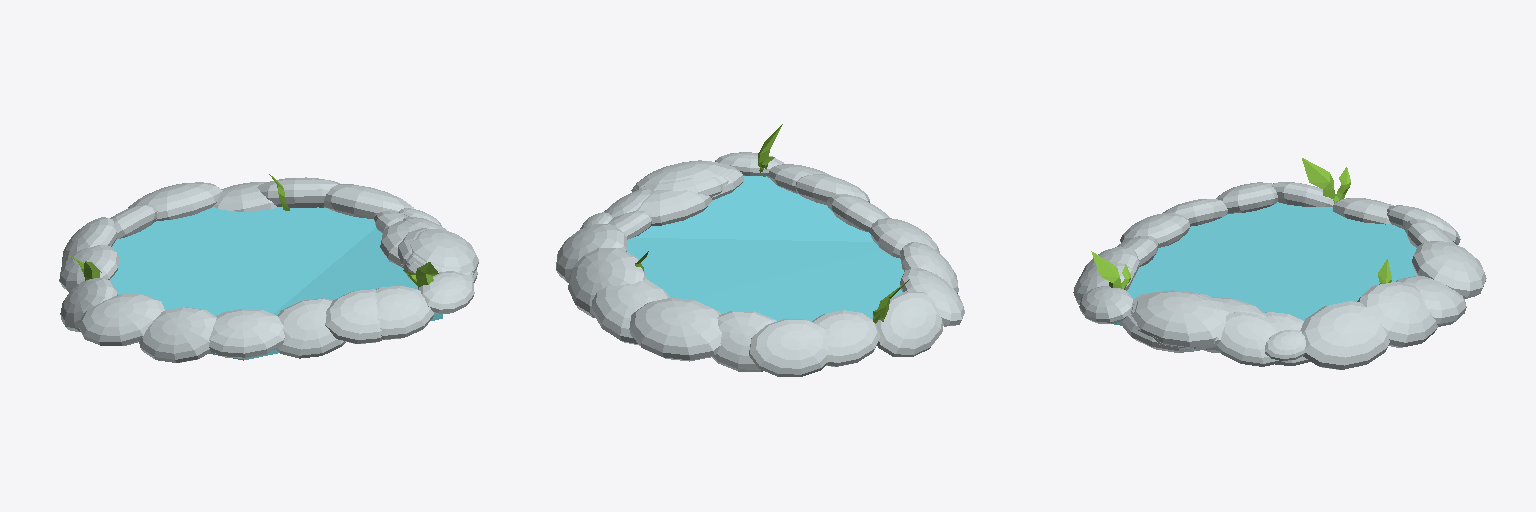
Rendered from model-triangulated.obj.
3 views of the same model, side by side, from view 1: azimuth 30°, elevation 25°; view 2: azimuth 150°, elevation 25°; view 3: azimuth 270°, elevation 25° (orthographic).
Visible parts, largest first — view 1: group[number redacted], group[number redacted], group[number redacted], group[number redacted], group[number redacted], group[number redacted], group[number redacted], group[number redacted], group[number redacted], group[number redacted], group[number redacted], group[number redacted] (+6 smaller); view 2: group[number redacted], group[number redacted], group[number redacted], group[number redacted], group[number redacted], group[number redacted], group[number redacted], group[number redacted], group[number redacted], group[number redacted], group[number redacted], group[number redacted] (+9 smaller); view 3: group[number redacted], group[number redacted], group[number redacted], group[number redacted], group[number redacted], group[number redacted], group[number redacted], group[number redacted], group[number redacted], group[number redacted], group[number redacted], group[number redacted] (+10 smaller).
Boxes of the visible parts, box(x1,y1,x2,y2) form: group[number redacted]: box(110, 207, 442, 360); group[number redacted]: box(139, 307, 216, 362); group[number redacted]: box(78, 294, 164, 345); group[number redacted]: box(209, 309, 284, 358); group[number redacted]: box(276, 298, 345, 358); group[number redacted]: box(325, 289, 382, 343); group[number redacted]: box(375, 286, 433, 339); group[number redacted]: box(128, 182, 222, 221); group[number redacted]: box(409, 229, 478, 273); group[number redacted]: box(323, 184, 413, 218); group[number redacted]: box(418, 271, 474, 313); group[number redacted]: box(257, 177, 339, 207); group[number redacted]: box(627, 176, 903, 320); group[number redacted]: box(629, 298, 721, 361); group[number redacted]: box(749, 319, 828, 376); group[number redacted]: box(876, 291, 943, 356); group[number redacted]: box(568, 248, 646, 317); group[number redacted]: box(812, 310, 879, 366); group[number redacted]: box(592, 279, 669, 345); group[number redacted]: box(712, 311, 776, 371); group[number redacted]: box(556, 224, 626, 282); group[number redacted]: box(637, 190, 712, 225); group[number redacted]: box(900, 268, 964, 326); group[number redacted]: box(870, 218, 939, 258); group[number redacted]: box(1114, 202, 1417, 325); group[number redacted]: box(1300, 301, 1389, 369); group[number redacted]: box(1131, 290, 1224, 348); group[number redacted]: box(1357, 282, 1437, 347); group[number redacted]: box(1412, 241, 1486, 298); group[number redacted]: box(1216, 311, 1281, 366); group[number redacted]: box(1396, 276, 1466, 326); group[number redacted]: box(1079, 286, 1132, 323); group[number redacted]: box(1120, 213, 1189, 247); group[number redacted]: box(1216, 182, 1277, 213); group[number redacted]: box(1333, 198, 1393, 224); group[number redacted]: box(1271, 182, 1333, 206).
Bounding box in the file's own units: 0.3016 × 0.0696 × 0.2945.